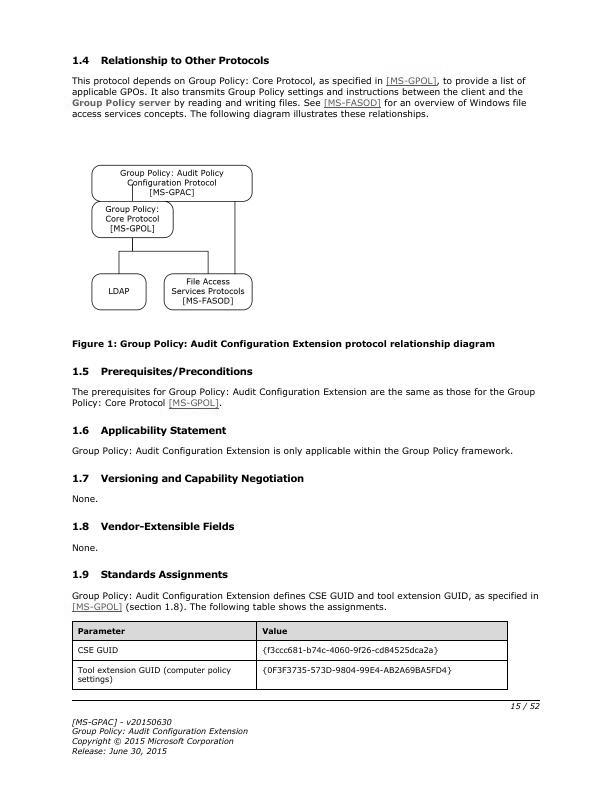table: (70, 618, 510, 692)
text: (69, 74, 528, 119), (70, 385, 537, 413), (69, 588, 540, 613), (69, 713, 249, 760), (68, 335, 497, 351), (70, 444, 516, 458), (70, 471, 306, 487), (68, 51, 273, 67), (69, 364, 255, 379), (71, 518, 237, 533), (68, 568, 230, 582), (70, 424, 229, 438), (68, 540, 100, 555), (71, 492, 101, 506)
